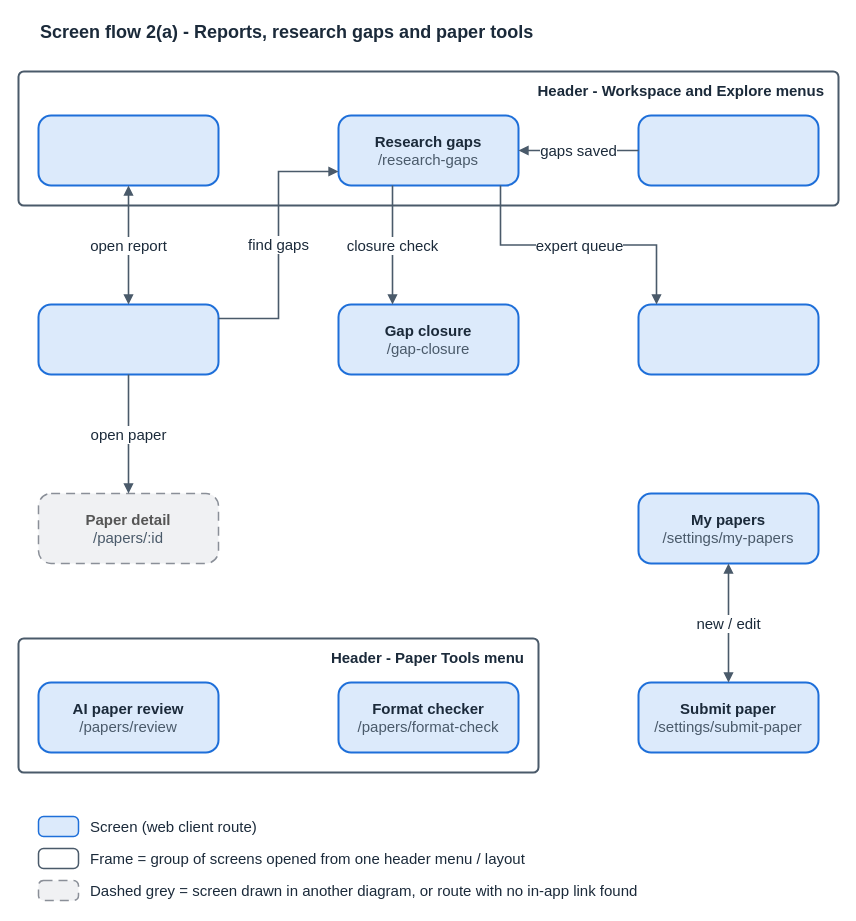
The diagram is 856 pixels wide and 921 high, and some of its shapes have lost their labels. Here are the shapes that lost their labels. From the top down, the centre of each, then its label:
point 128,150: Reports /reports
point 728,150: Gap discovery /research-gap/discover
point 128,339: Report viewer /reports/:id
point 728,339: Gap validation queue /research-gaps/validation
